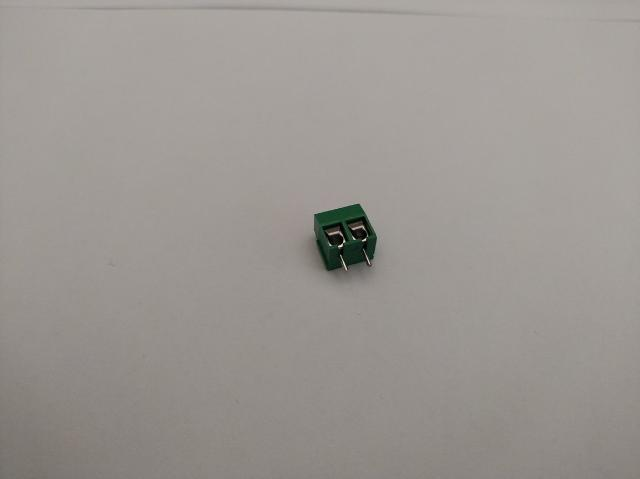terminal_block: (314, 204, 376, 272)
